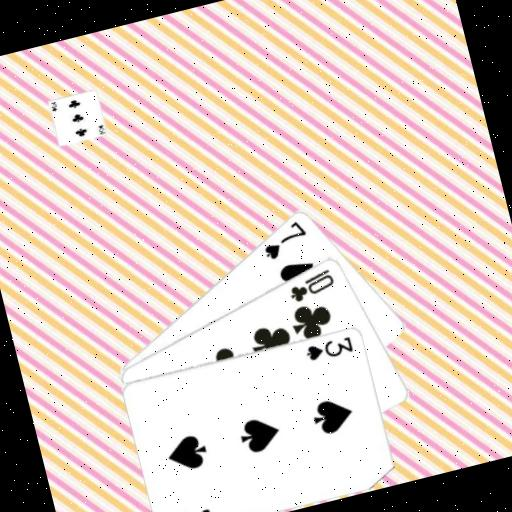10C: (282, 264, 339, 305)
3S: (302, 331, 356, 364), (163, 502, 217, 512)
7S: (256, 215, 313, 263)
